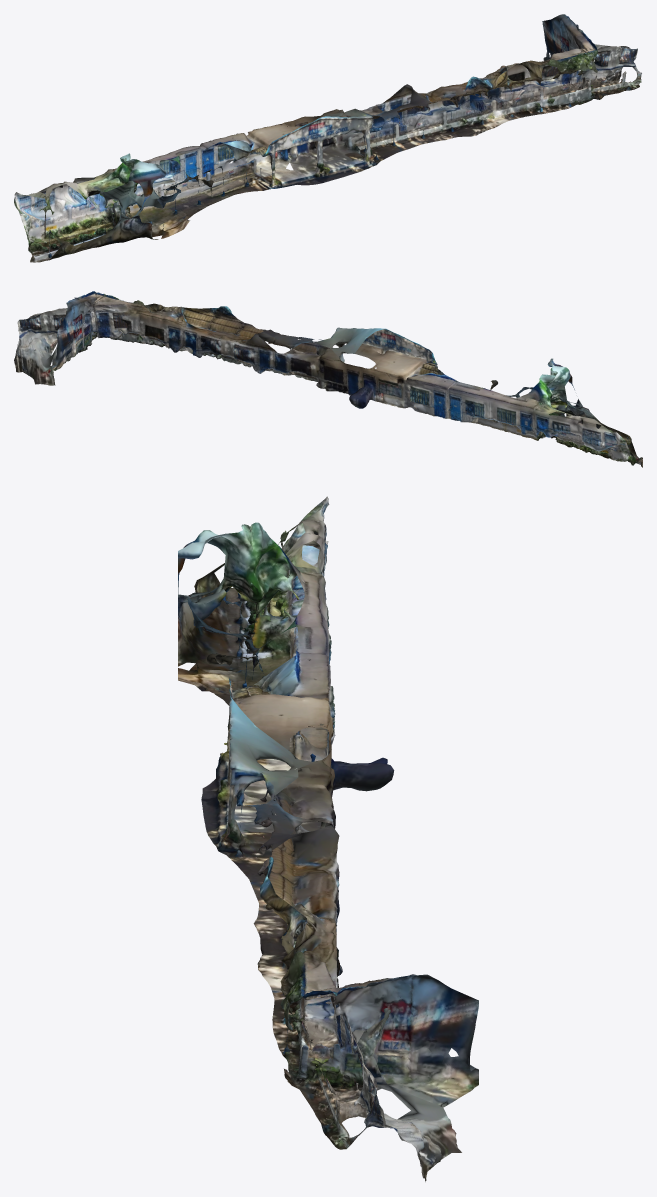
Rendered from admin.glb.
3 renders of one model, top to bottom at view 1: azimuth 30°, elevation 25°; view 2: azimuth 150°, elevation 25°; view 3: azimuth 270°, elevation 25°, orthographic. The views are drawn at different scales.
Visible parts, largest first — view 1: unassigned_scan; view 2: unassigned_scan; view 3: unassigned_scan.
Part boxes in pixels (<box>): unassigned_scan: <box>14,14,641,262</box>; unassigned_scan: <box>14,291,642,467</box>; unassigned_scan: <box>178,496,478,1181</box>.
Bounding box in the file's own units: 19.4 × 2.73 × 4.27.
1 material, 1 textured.
